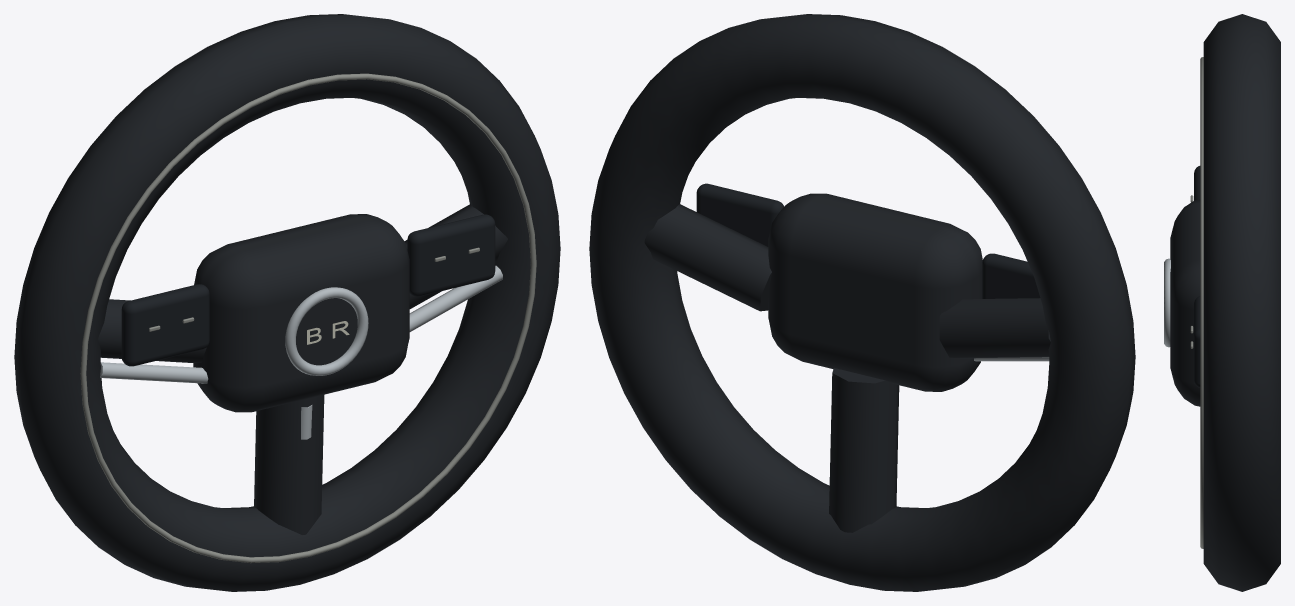
Rendered from steering.glb.
3 renders of one model, left to right at view 1: azimuth 30°, elevation 25°; view 2: azimuth 150°, elevation 25°; view 3: azimuth 270°, elevation 25°, orthographic. The views are drawn at different scales.
Visible parts, largest first — view 1: steering; view 2: steering; view 3: steering.
Boxes of the visible parts, bbox=[...] form: steering: bbox=[14, 14, 560, 591]; steering: bbox=[589, 14, 1135, 591]; steering: bbox=[1164, 14, 1280, 591].
Size of the model in its own units: 0.442 by 0.442 by 0.0893.
Materials: 5 (1 with a texture image).
